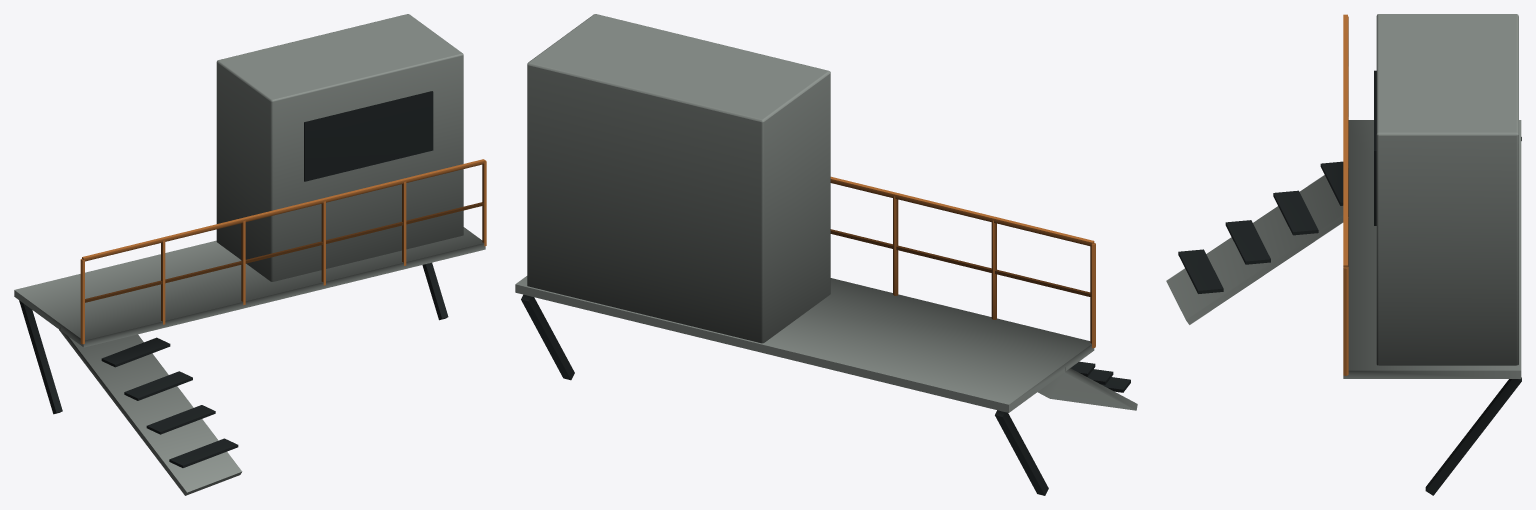
The model's file is catwalk_office.glb.
3 views of the same model, side by side, from view 1: azimuth 30°, elevation 25°; view 2: azimuth 150°, elevation 25°; view 3: azimuth 270°, elevation 25° (orthographic). The views are drawn at different scales.
Visible parts, largest first — view 1: CatwalkOffice; view 2: CatwalkOffice; view 3: CatwalkOffice.
Part boxes in pixels (box(x1,y1,x2,y2)): CatwalkOffice: box(14, 14, 486, 495); CatwalkOffice: box(515, 14, 1137, 495); CatwalkOffice: box(1166, 14, 1521, 495).
Size of the model in its own units: 5.05 by 3.51 by 3.
